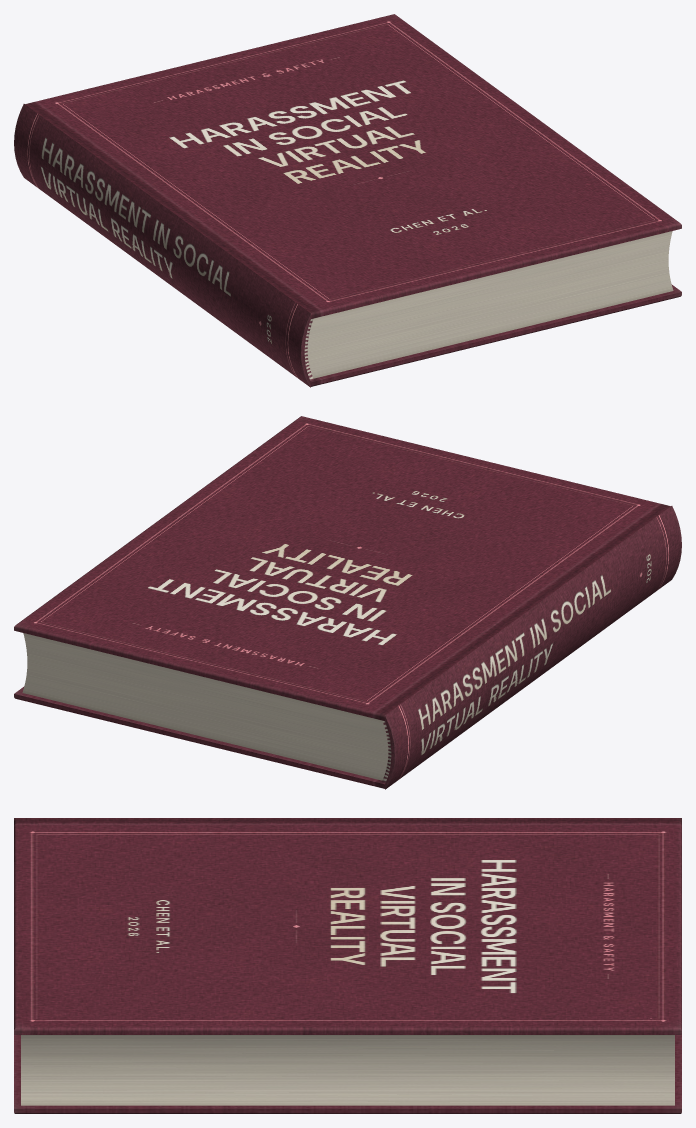
Rendered from chen-2026.glb.
3 views of the same model, one above another, from view 1: azimuth 30°, elevation 25°; view 2: azimuth 150°, elevation 25°; view 3: azimuth 270°, elevation 25° (orthographic). The views are drawn at different scales.
Parts seen in each view (by area): view 1: chen-2026; view 2: chen-2026; view 3: chen-2026.
Boxes of the visible parts, x1,y1,x2,y2 form: chen-2026: (14, 14, 681, 387); chen-2026: (14, 416, 681, 789); chen-2026: (14, 818, 681, 1113).
Bounding box in the file's own units: 0.2145 × 0.04 × 0.28.
Materials: 4 (4 with a texture image).
